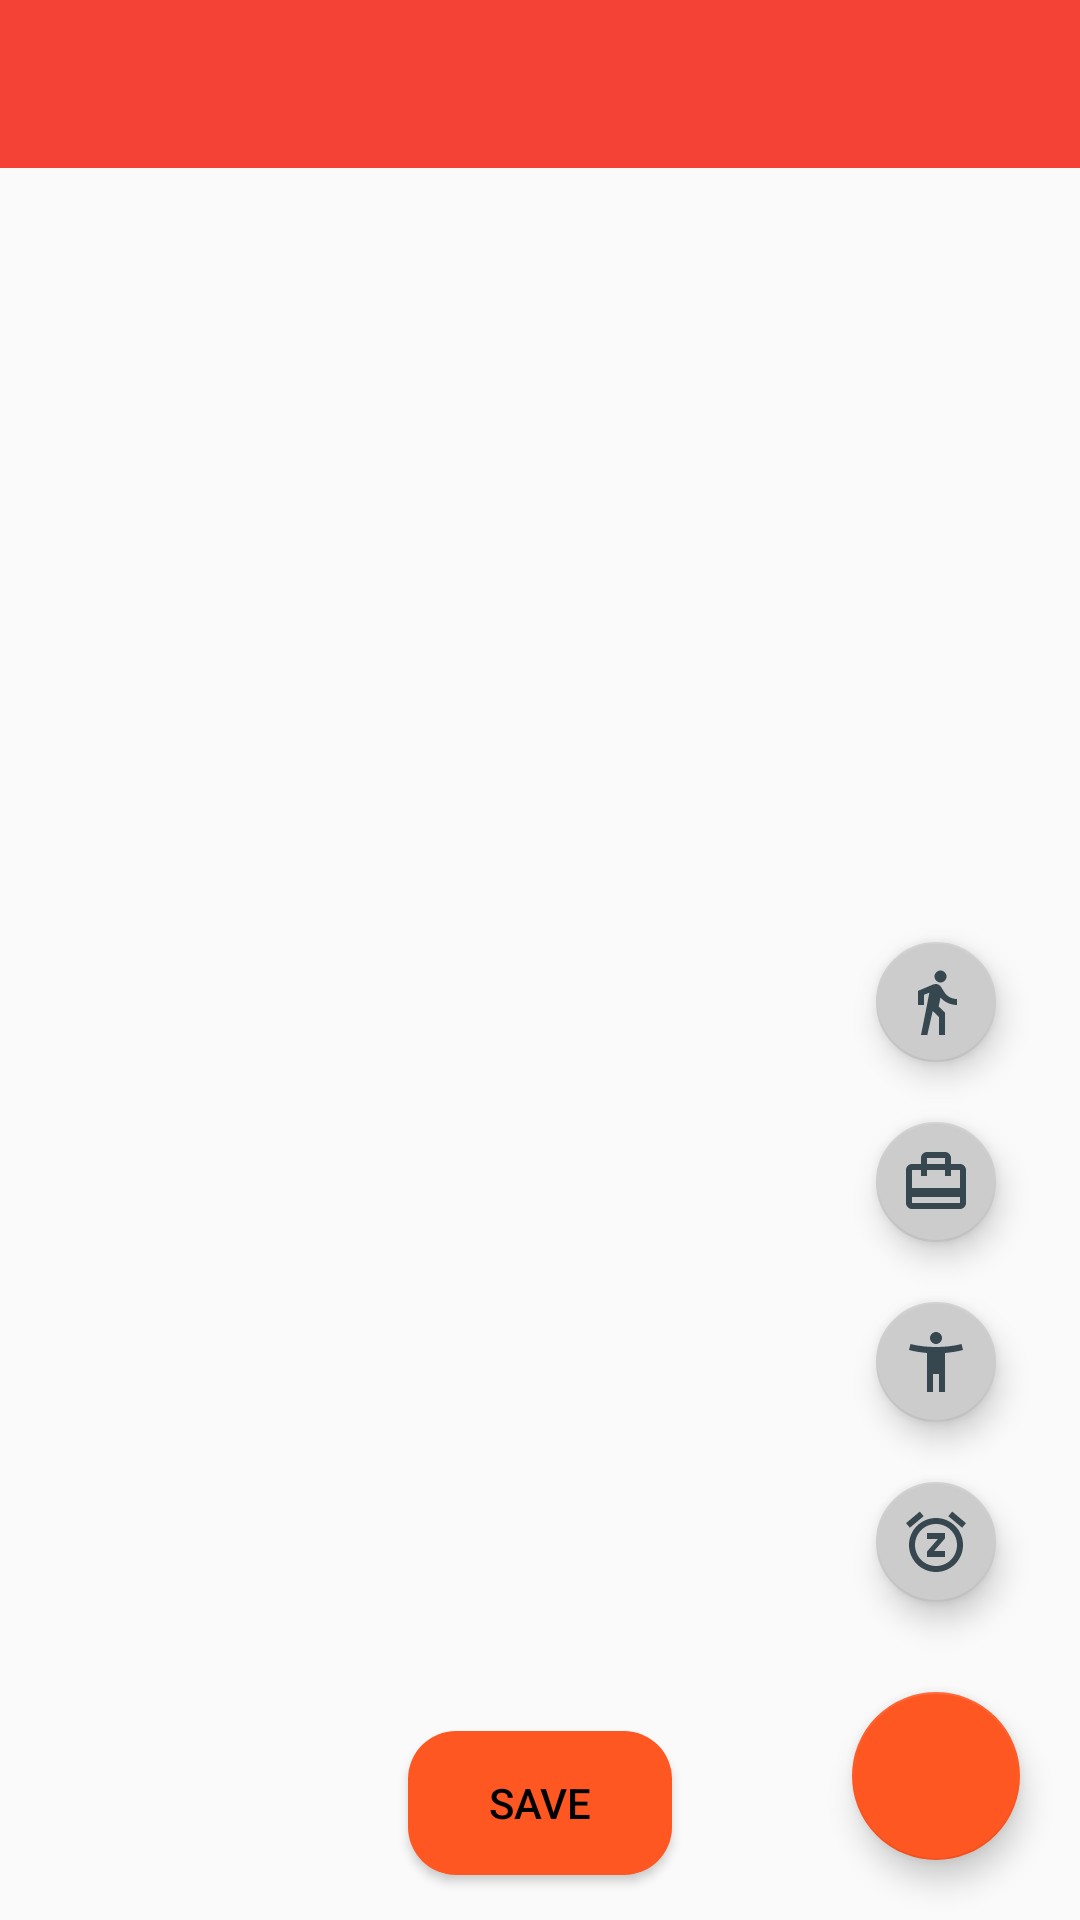

Locate icon controls on the screen. Image size 1080 x 1920, boxes as box(x1, y1, x2, y2).
preparation: box(876, 942, 996, 1062)
relax: box(876, 1302, 996, 1422)
relax between sets: box(876, 1482, 996, 1602)
work: box(876, 1122, 996, 1242)
